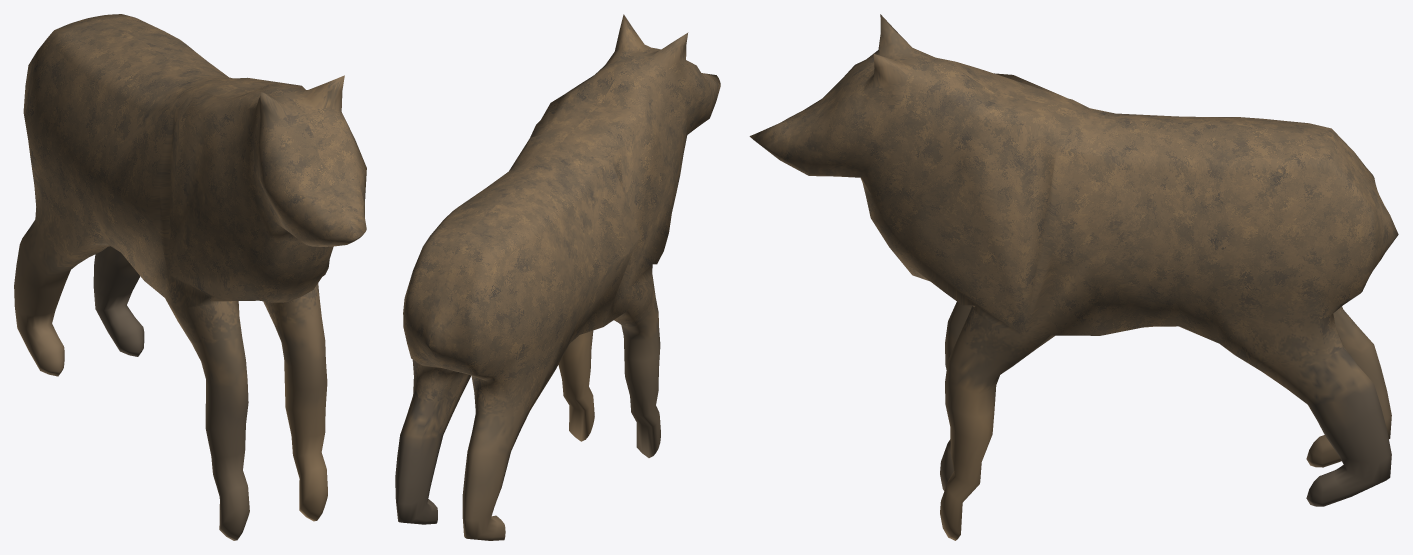
The model's file is piesblend_000005.obj.
The picture shows the model from 3 angles, left to right: view 1: azimuth 30°, elevation 25°; view 2: azimuth 150°, elevation 25°; view 3: azimuth 270°, elevation 25°; orthographic projection. The views are drawn at different scales.
Parts seen in each view (by area): view 1: Cube; view 2: Cube; view 3: Cube.
Part boxes in pixels (x1,y1,x2,y2): Cube: (14, 14, 366, 540); Cube: (395, 14, 720, 540); Cube: (749, 14, 1398, 540).
Size of the model in its own units: 2.55 by 7.18 by 8.74.
Materials: 1 (1 with a texture image).
